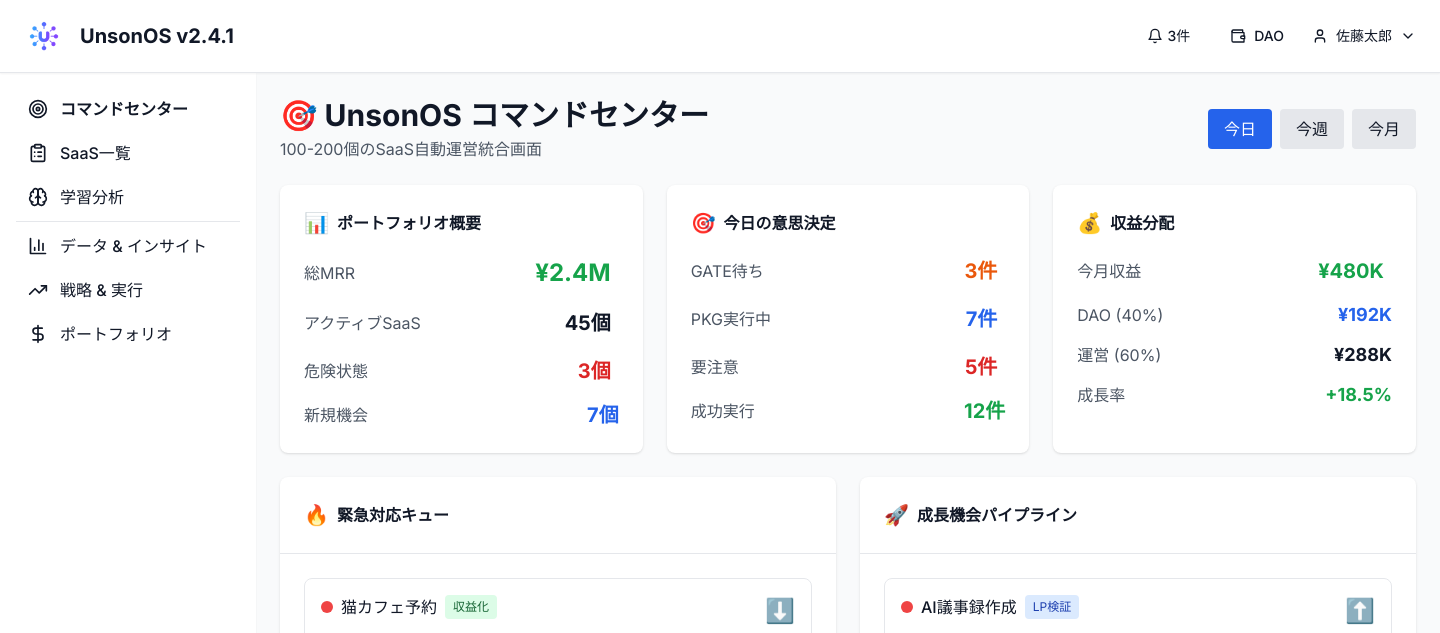
Test case: Dashboard › DAOタブのコンテンツ › 収益分配とポートフォリオ進化を表示する
Click the button "ポートフォリオ": (128,334) [16,314,240,354]
(page scrolled)
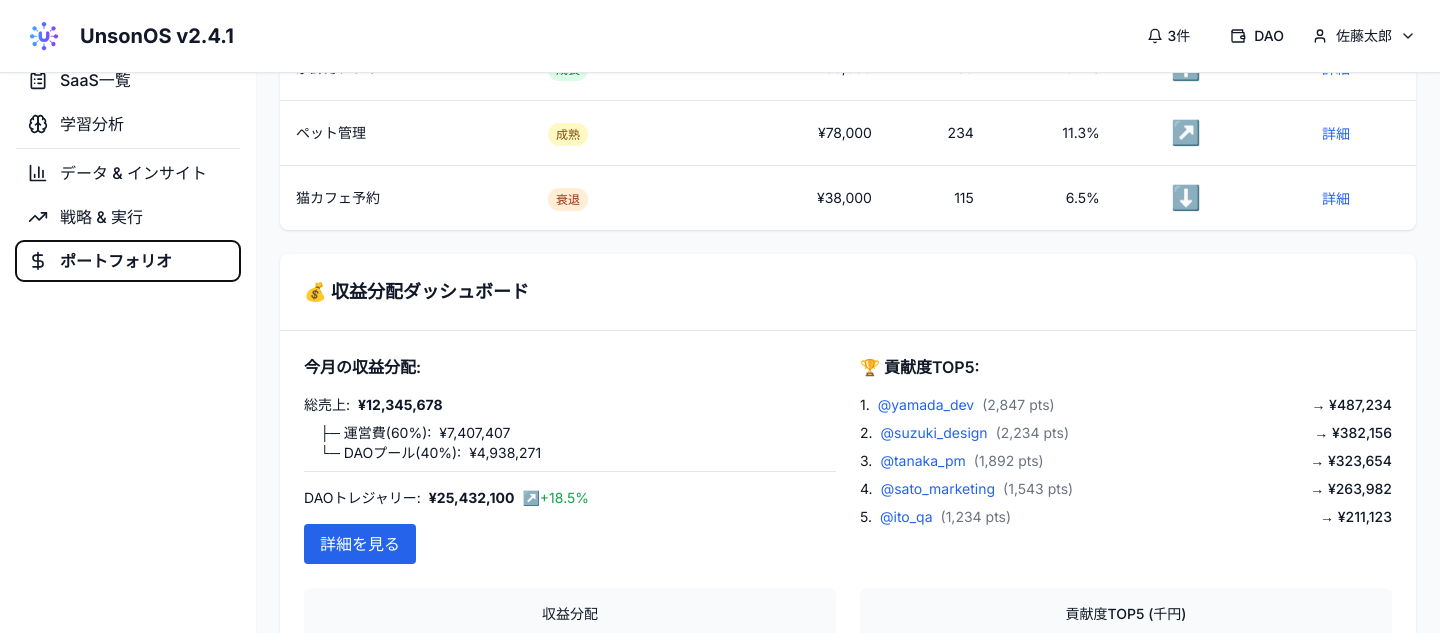
Expected: the text "総売上:" is shown, [304,395,350,415]
Expected: the text "¥12,345,678" is shown, [358,395,442,415]
